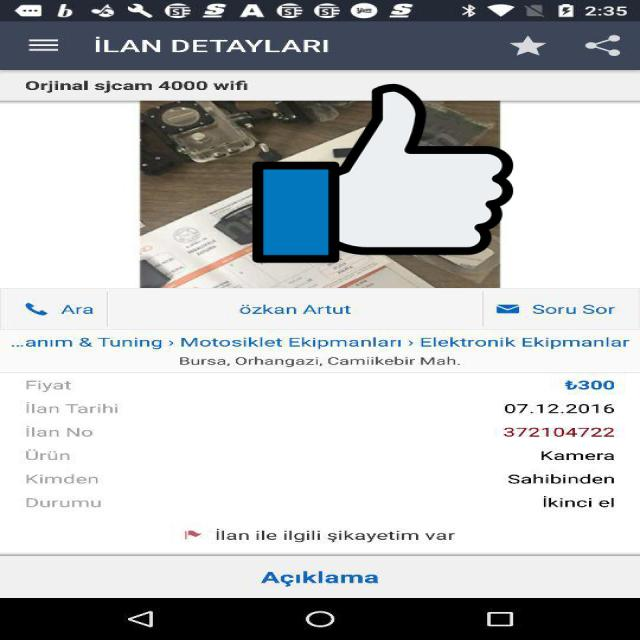privacy zuckering: (253, 80, 513, 267)
